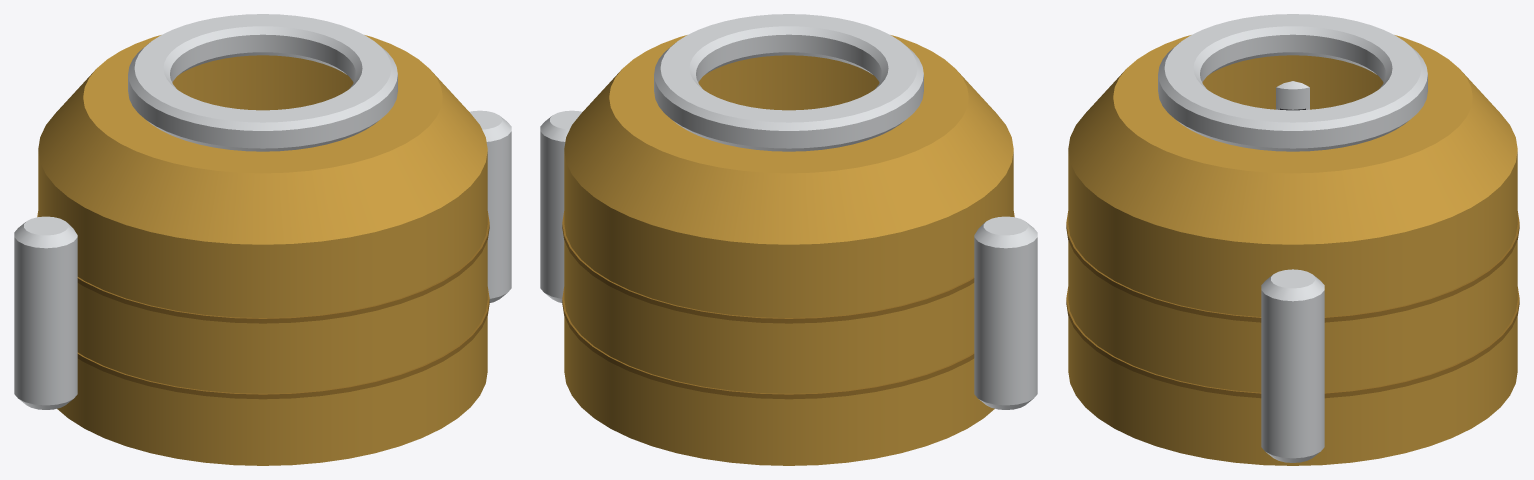
File: sm1_actuator.obj
3 renders of one model, left to right at view 1: azimuth 30°, elevation 25°; view 2: azimuth 150°, elevation 25°; view 3: azimuth 270°, elevation 25°, orthographic.
Parts seen in each view (by area): view 1: sm1_actuator; view 2: sm1_actuator; view 3: sm1_actuator.
Boxes of the visible parts, left/top/right/bottom form: sm1_actuator: left=14, top=14, right=511, bottom=465; sm1_actuator: left=540, top=14, right=1037, bottom=465; sm1_actuator: left=1066, top=14, right=1519, bottom=465.
Size of the model in its own units: 1.76 by 1.04 by 1.41.
